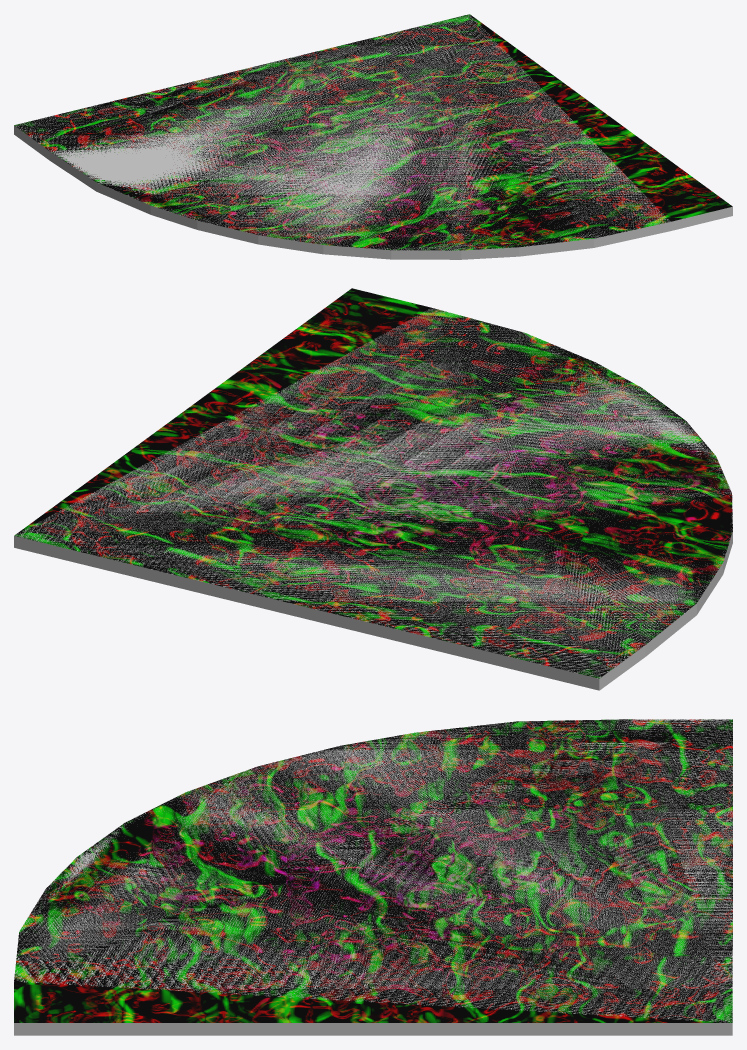
Rendered from floor_corner_small_SM.fbx.
3 renders of one model, top to bottom at view 1: azimuth 30°, elevation 25°; view 2: azimuth 150°, elevation 25°; view 3: azimuth 270°, elevation 25°, orthographic. The views are drawn at different scales.
Parts seen in each view (by area): view 1: floor_corner_small_SM, floor_corner_small_SM_ConvexHulls; view 2: floor_corner_small_SM, floor_corner_small_SM_ConvexHulls; view 3: floor_corner_small_SM, floor_corner_small_SM_ConvexHulls.
Boxes of the visible parts, box(x1,y1,x2,y2) form: floor_corner_small_SM: box(14, 14, 732, 250); floor_corner_small_SM_ConvexHulls: box(14, 14, 732, 259); floor_corner_small_SM: box(14, 288, 732, 678); floor_corner_small_SM_ConvexHulls: box(14, 308, 732, 690); floor_corner_small_SM: box(14, 719, 732, 1022); floor_corner_small_SM_ConvexHulls: box(14, 719, 732, 1035).
Bounding box in the file's own units: 1024 × 1024 × 20.
2 materials, 1 textured.
